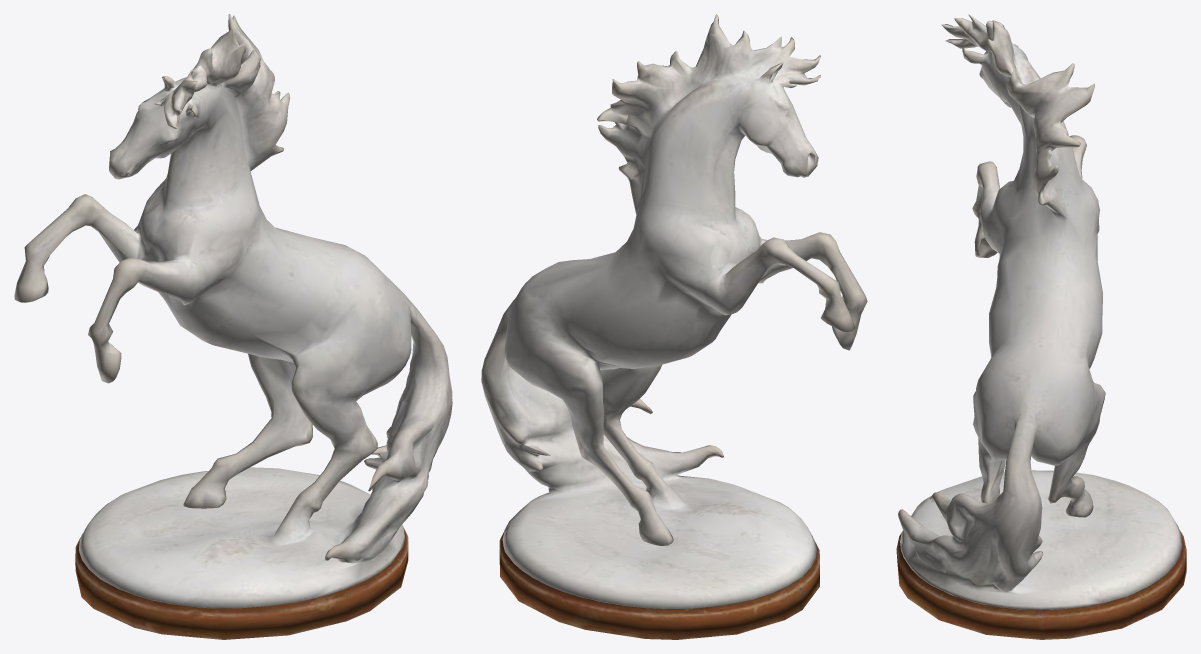
Rendered from hp_room_cc0_horse.glb.
The picture shows the model from 3 angles, left to right: view 1: azimuth 30°, elevation 25°; view 2: azimuth 150°, elevation 25°; view 3: azimuth 270°, elevation 25°; orthographic projection. The views are drawn at different scales.
Parts seen in each view (by area): view 1: horse_statue_01; view 2: horse_statue_01; view 3: horse_statue_01.
Part boxes in pixels (x1,y1,x2,y2): horse_statue_01: [14, 14, 452, 639]; horse_statue_01: [481, 14, 867, 639]; horse_statue_01: [896, 14, 1186, 639].
Size of the model in its own units: 0.1638 by 0.22 by 0.1078.
Materials: 1 (1 with a texture image).
